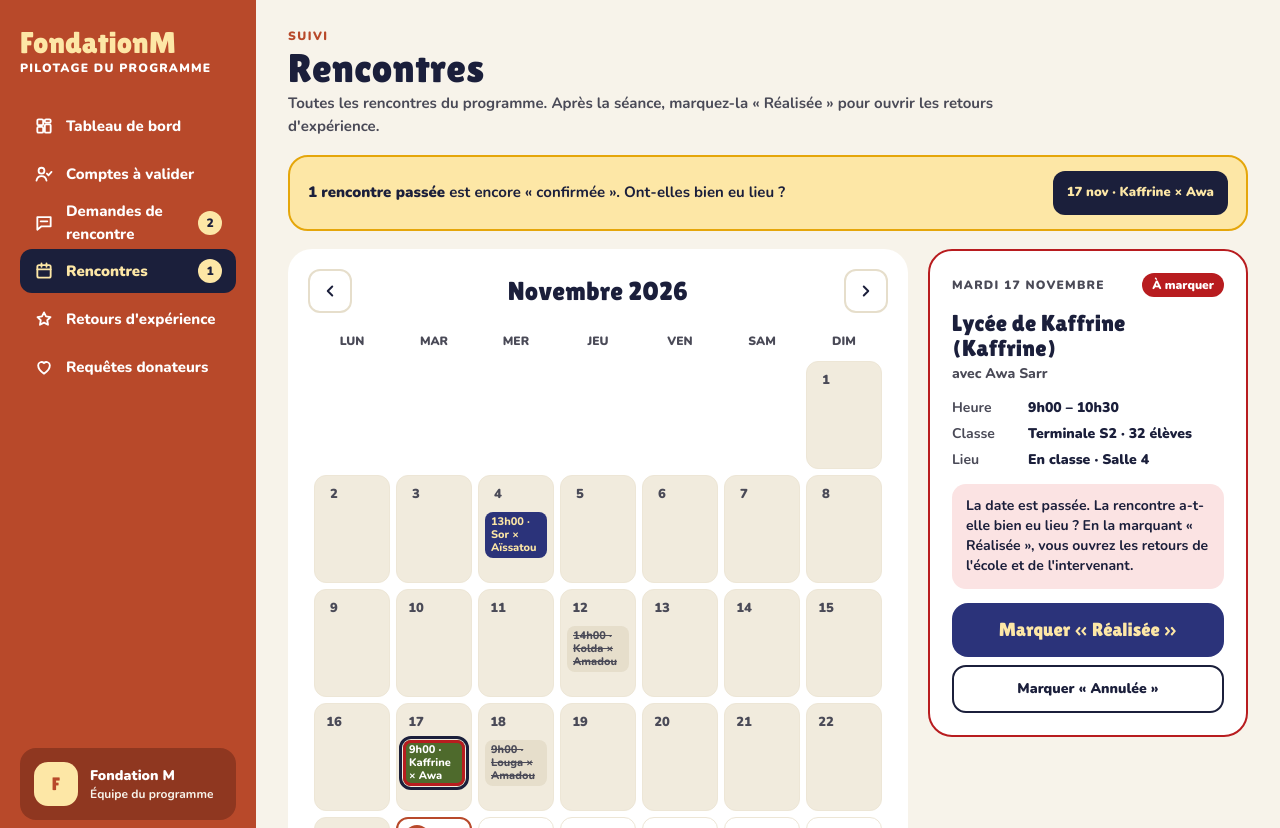
Test: Rencontres (Fondation) › affiche l’erreur du serveur si « Réalisée » est refusé
Click the button "Marquer « Réalisée »". click: (1088, 630)
box: [952, 603, 1224, 657]
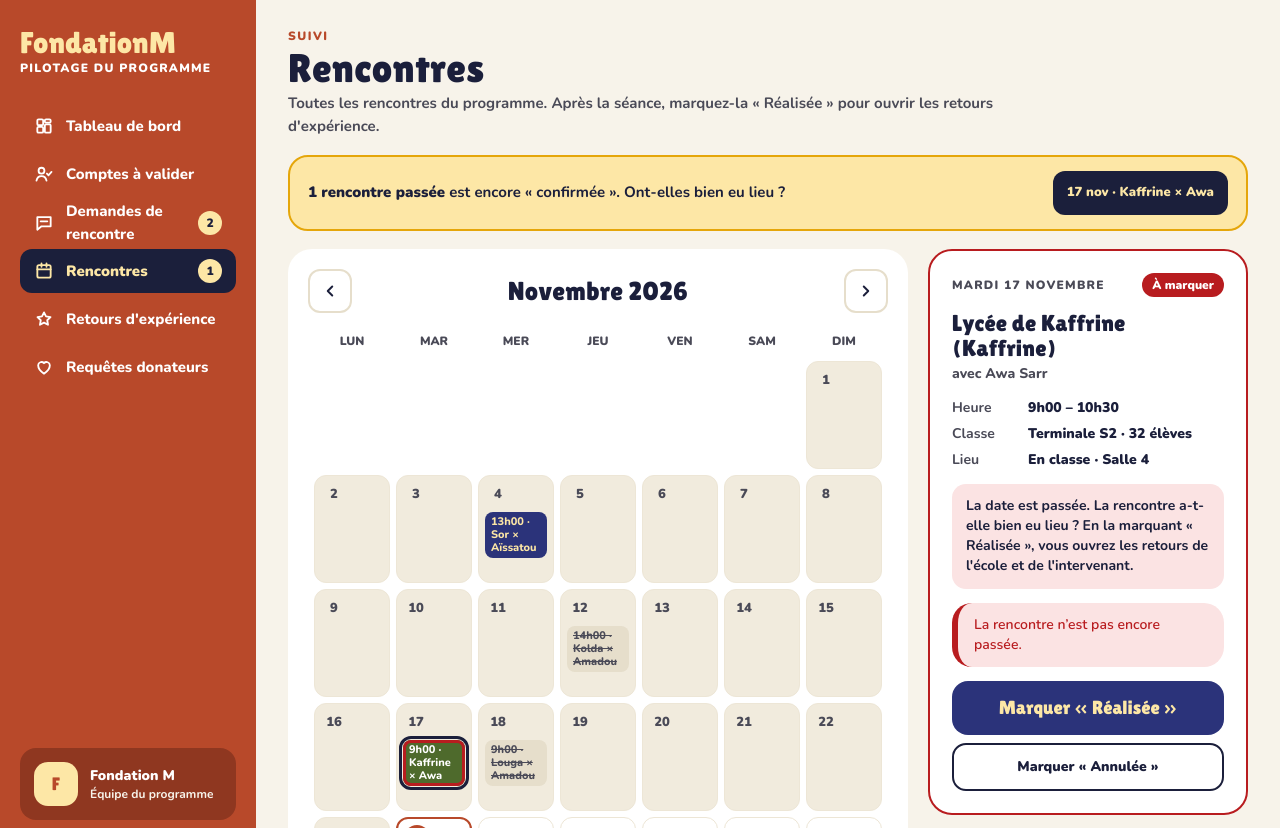
Expected: the message "La rencontre n’est pas encore passée." is shown, [952, 603, 1224, 667]
